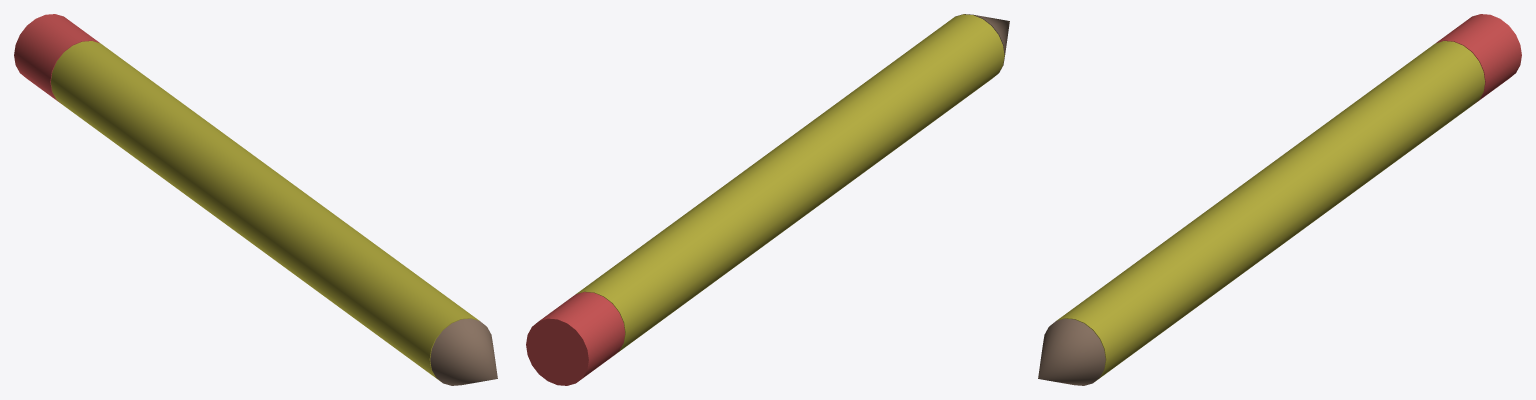
The model's file is pencil.fbx.
The picture shows the model from 3 angles, left to right: view 1: azimuth 30°, elevation 25°; view 2: azimuth 150°, elevation 25°; view 3: azimuth 330°, elevation 25°; orthographic projection.
Parts seen in each view (by area): view 1: pCylinder1, pCone1, pCylinder2; view 2: pCylinder1, pCylinder2, pCone1; view 3: pCylinder1, pCone1, pCylinder2.
Part boxes in pixels (x1=…): pCylinder1: x1=51, y1=41, x2=479, y2=381; pCone1: x1=430, y1=318, x2=497, y2=385; pCylinder2: x1=14, y1=14, x2=99, y2=103; pCylinder1: x1=576, y1=14, x2=1004, y2=355; pCylinder2: x1=526, y1=292, x2=625, y2=385; pCone1: x1=955, y1=14, x2=1009, y2=72; pCylinder1: x1=1056, y1=41, x2=1484, y2=381; pCone1: x1=1038, y1=318, x2=1105, y2=385; pCylinder2: x1=1436, y1=14, x2=1521, y2=103.
Size of the model in its own units: 2 by 2 by 24.91.
